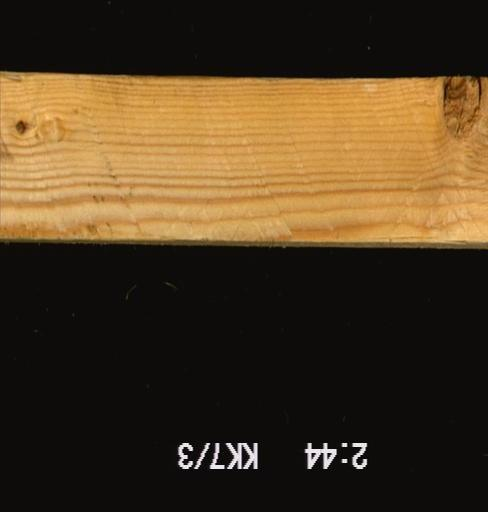dry_knot: (11, 115, 30, 141)
edge_knot: (439, 77, 486, 143)
